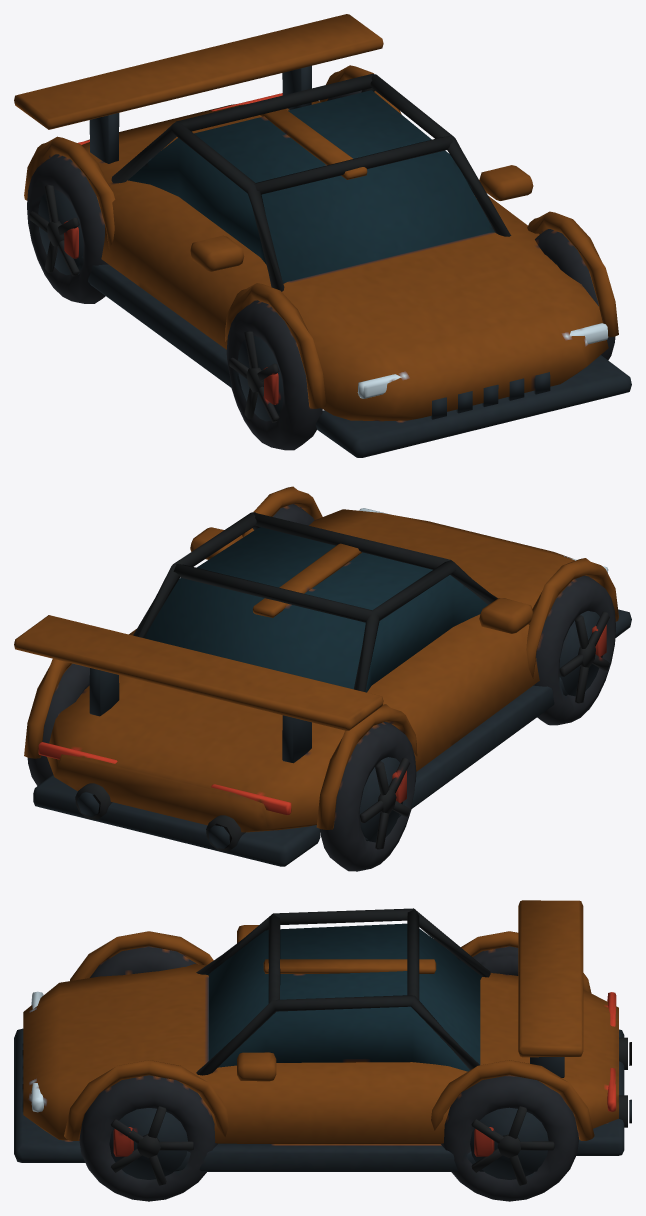
The model's file is hero-low.glb.
3 renders of one model, top to bottom at view 1: azimuth 30°, elevation 25°; view 2: azimuth 150°, elevation 25°; view 3: azimuth 270°, elevation 25°, orthographic. The views are drawn at different scales.
Parts seen in each view (by area): view 1: Game_Mesh_LOD1; view 2: Game_Mesh_LOD1; view 3: Game_Mesh_LOD1.
Part boxes in pixels (left/top/right/bottom): Game_Mesh_LOD1: left=14, top=14, right=631, bottom=457; Game_Mesh_LOD1: left=14, top=486, right=631, bottom=871; Game_Mesh_LOD1: left=14, top=900, right=631, bottom=1201.
Size of the model in its own units: 1.96 by 1.14 by 3.44.
2 materials, 2 textured.
